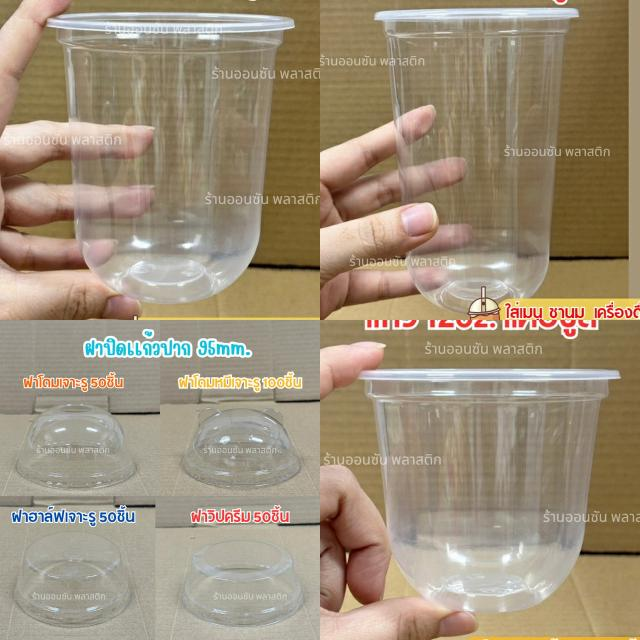Single-Use-Plastic: (48, 12, 294, 304), (362, 370, 619, 612), (375, 8, 579, 312), (182, 539, 304, 628), (15, 532, 130, 626), (18, 404, 135, 489), (184, 408, 300, 488)
